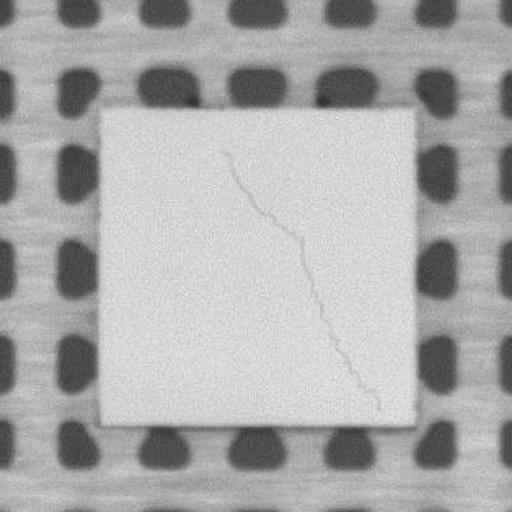DIE_CRACK: (220, 153, 376, 400)
